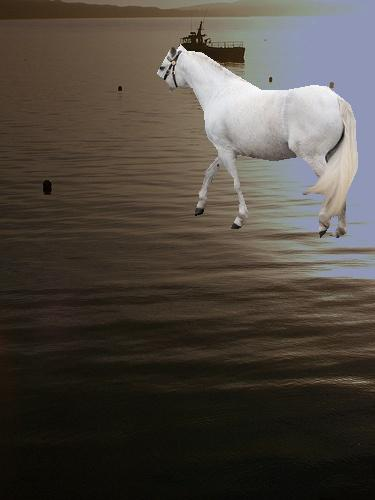tampered: (158, 45, 358, 238)
